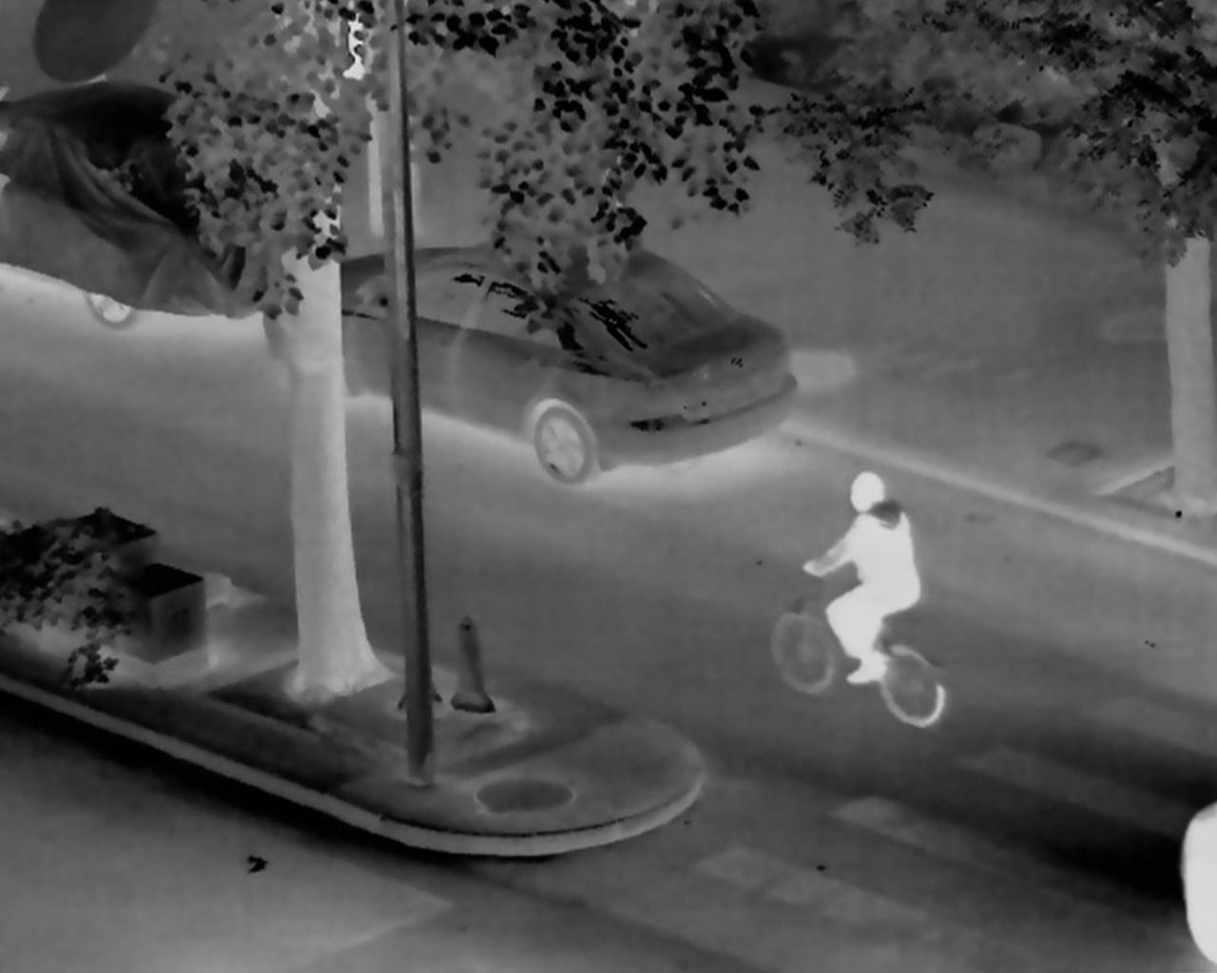person: (802, 472, 924, 682)
